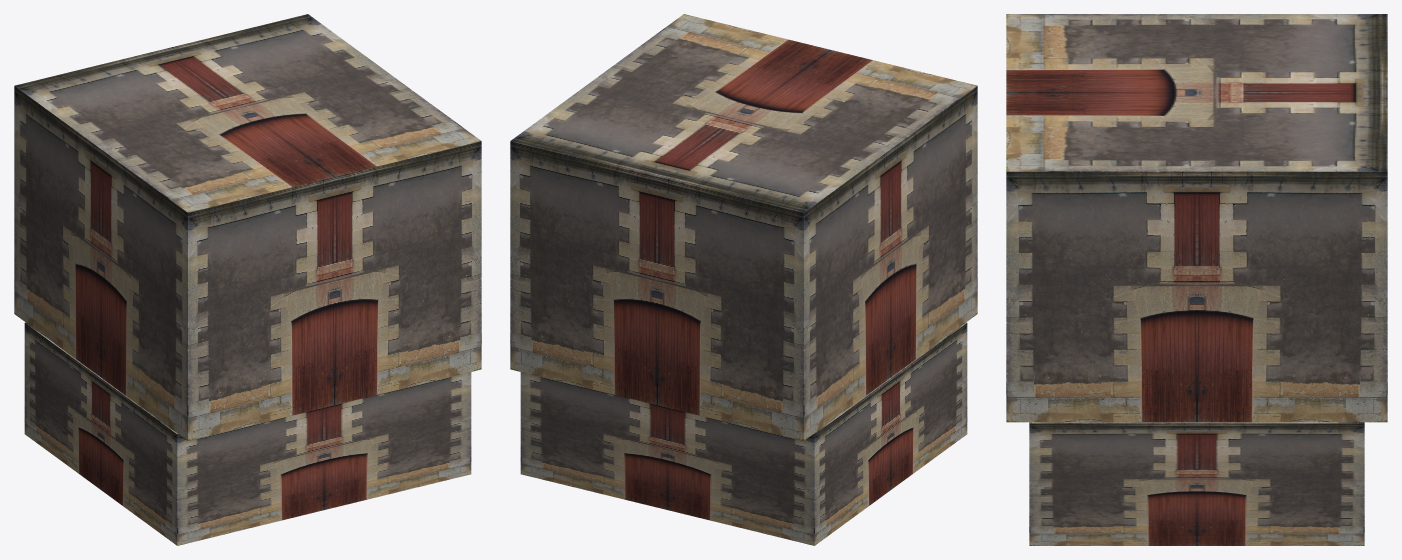
File: BagBuilding17_0.fbx
3 renders of one model, left to right at view 1: azimuth 30°, elevation 25°; view 2: azimuth 150°, elevation 25°; view 3: azimuth 270°, elevation 25°, orthographic. The views are drawn at different scales.
Visible parts, largest first — view 1: box0, boxb0; view 2: box0, boxb0; view 3: box0, boxb0.
Boxes of the visible parts, bbox=[...] form: box0: bbox=[14, 14, 481, 440]; boxb0: bbox=[24, 322, 471, 545]; box0: bbox=[510, 14, 977, 440]; boxb0: bbox=[520, 322, 967, 545]; box0: bbox=[1006, 14, 1387, 422]; boxb0: bbox=[1029, 422, 1364, 545].
Bounding box in the file's own units: 15.54 × 17.22 × 15.9.
